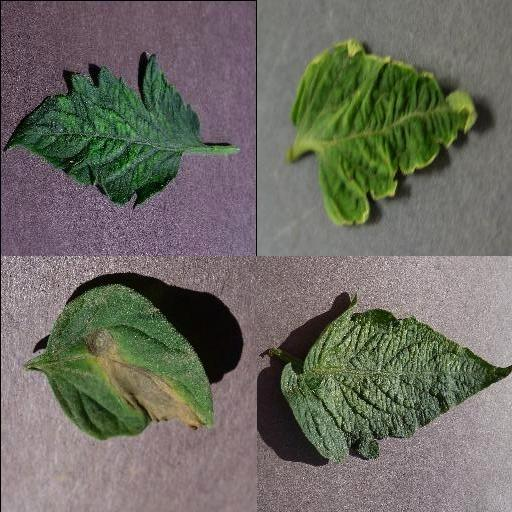Early Blight: (41, 286, 213, 442)
Mosaic Virus: (4, 50, 202, 209)
Spider Mites: (278, 298, 512, 462)
Yellow Leaf Curl Virus: (291, 39, 477, 227)
